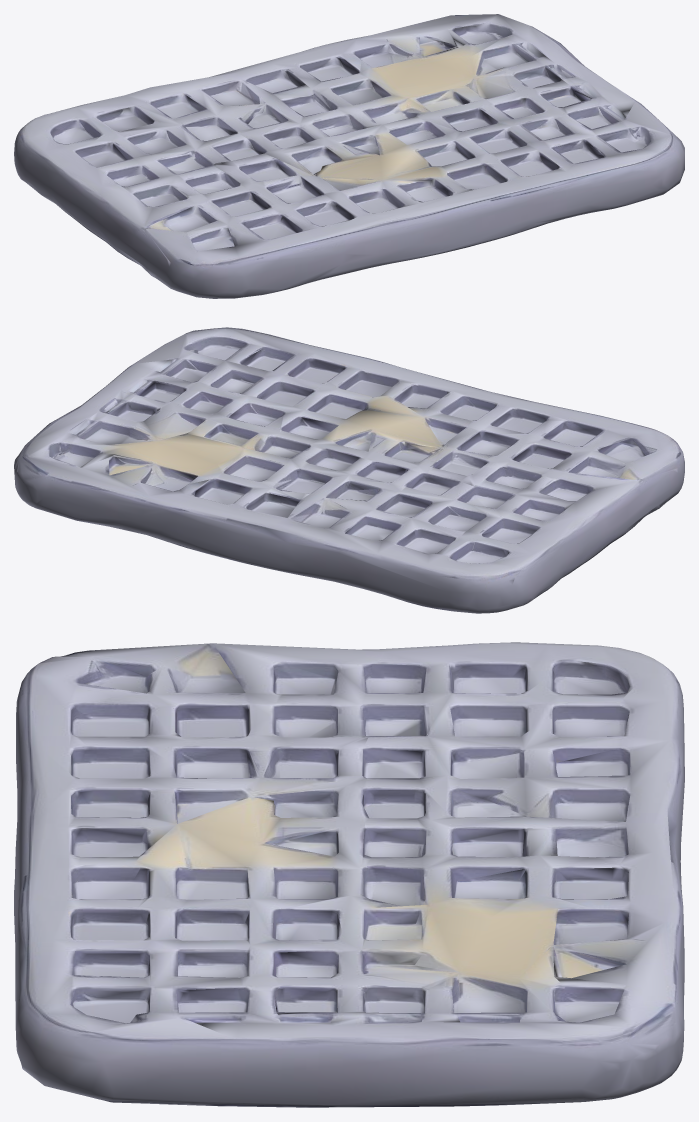
The picture shows the model from 3 angles, top to bottom: view 1: azimuth 30°, elevation 25°; view 2: azimuth 150°, elevation 25°; view 3: azimuth 270°, elevation 25°; orthographic projection. The views are drawn at different scales.
Parts seen in each view (by area): view 1: node_0; view 2: node_0; view 3: node_0.
Part boxes in pixels (x1=…): node_0: x1=14, y1=14, x2=684, y2=298; node_0: x1=14, y1=327, x2=684, y2=613; node_0: x1=14, y1=642, x2=684, y2=1107.
Bounding box in the file's own units: 1.06 × 0.0829 × 0.7354.
Materials: 1 (1 with a texture image).
